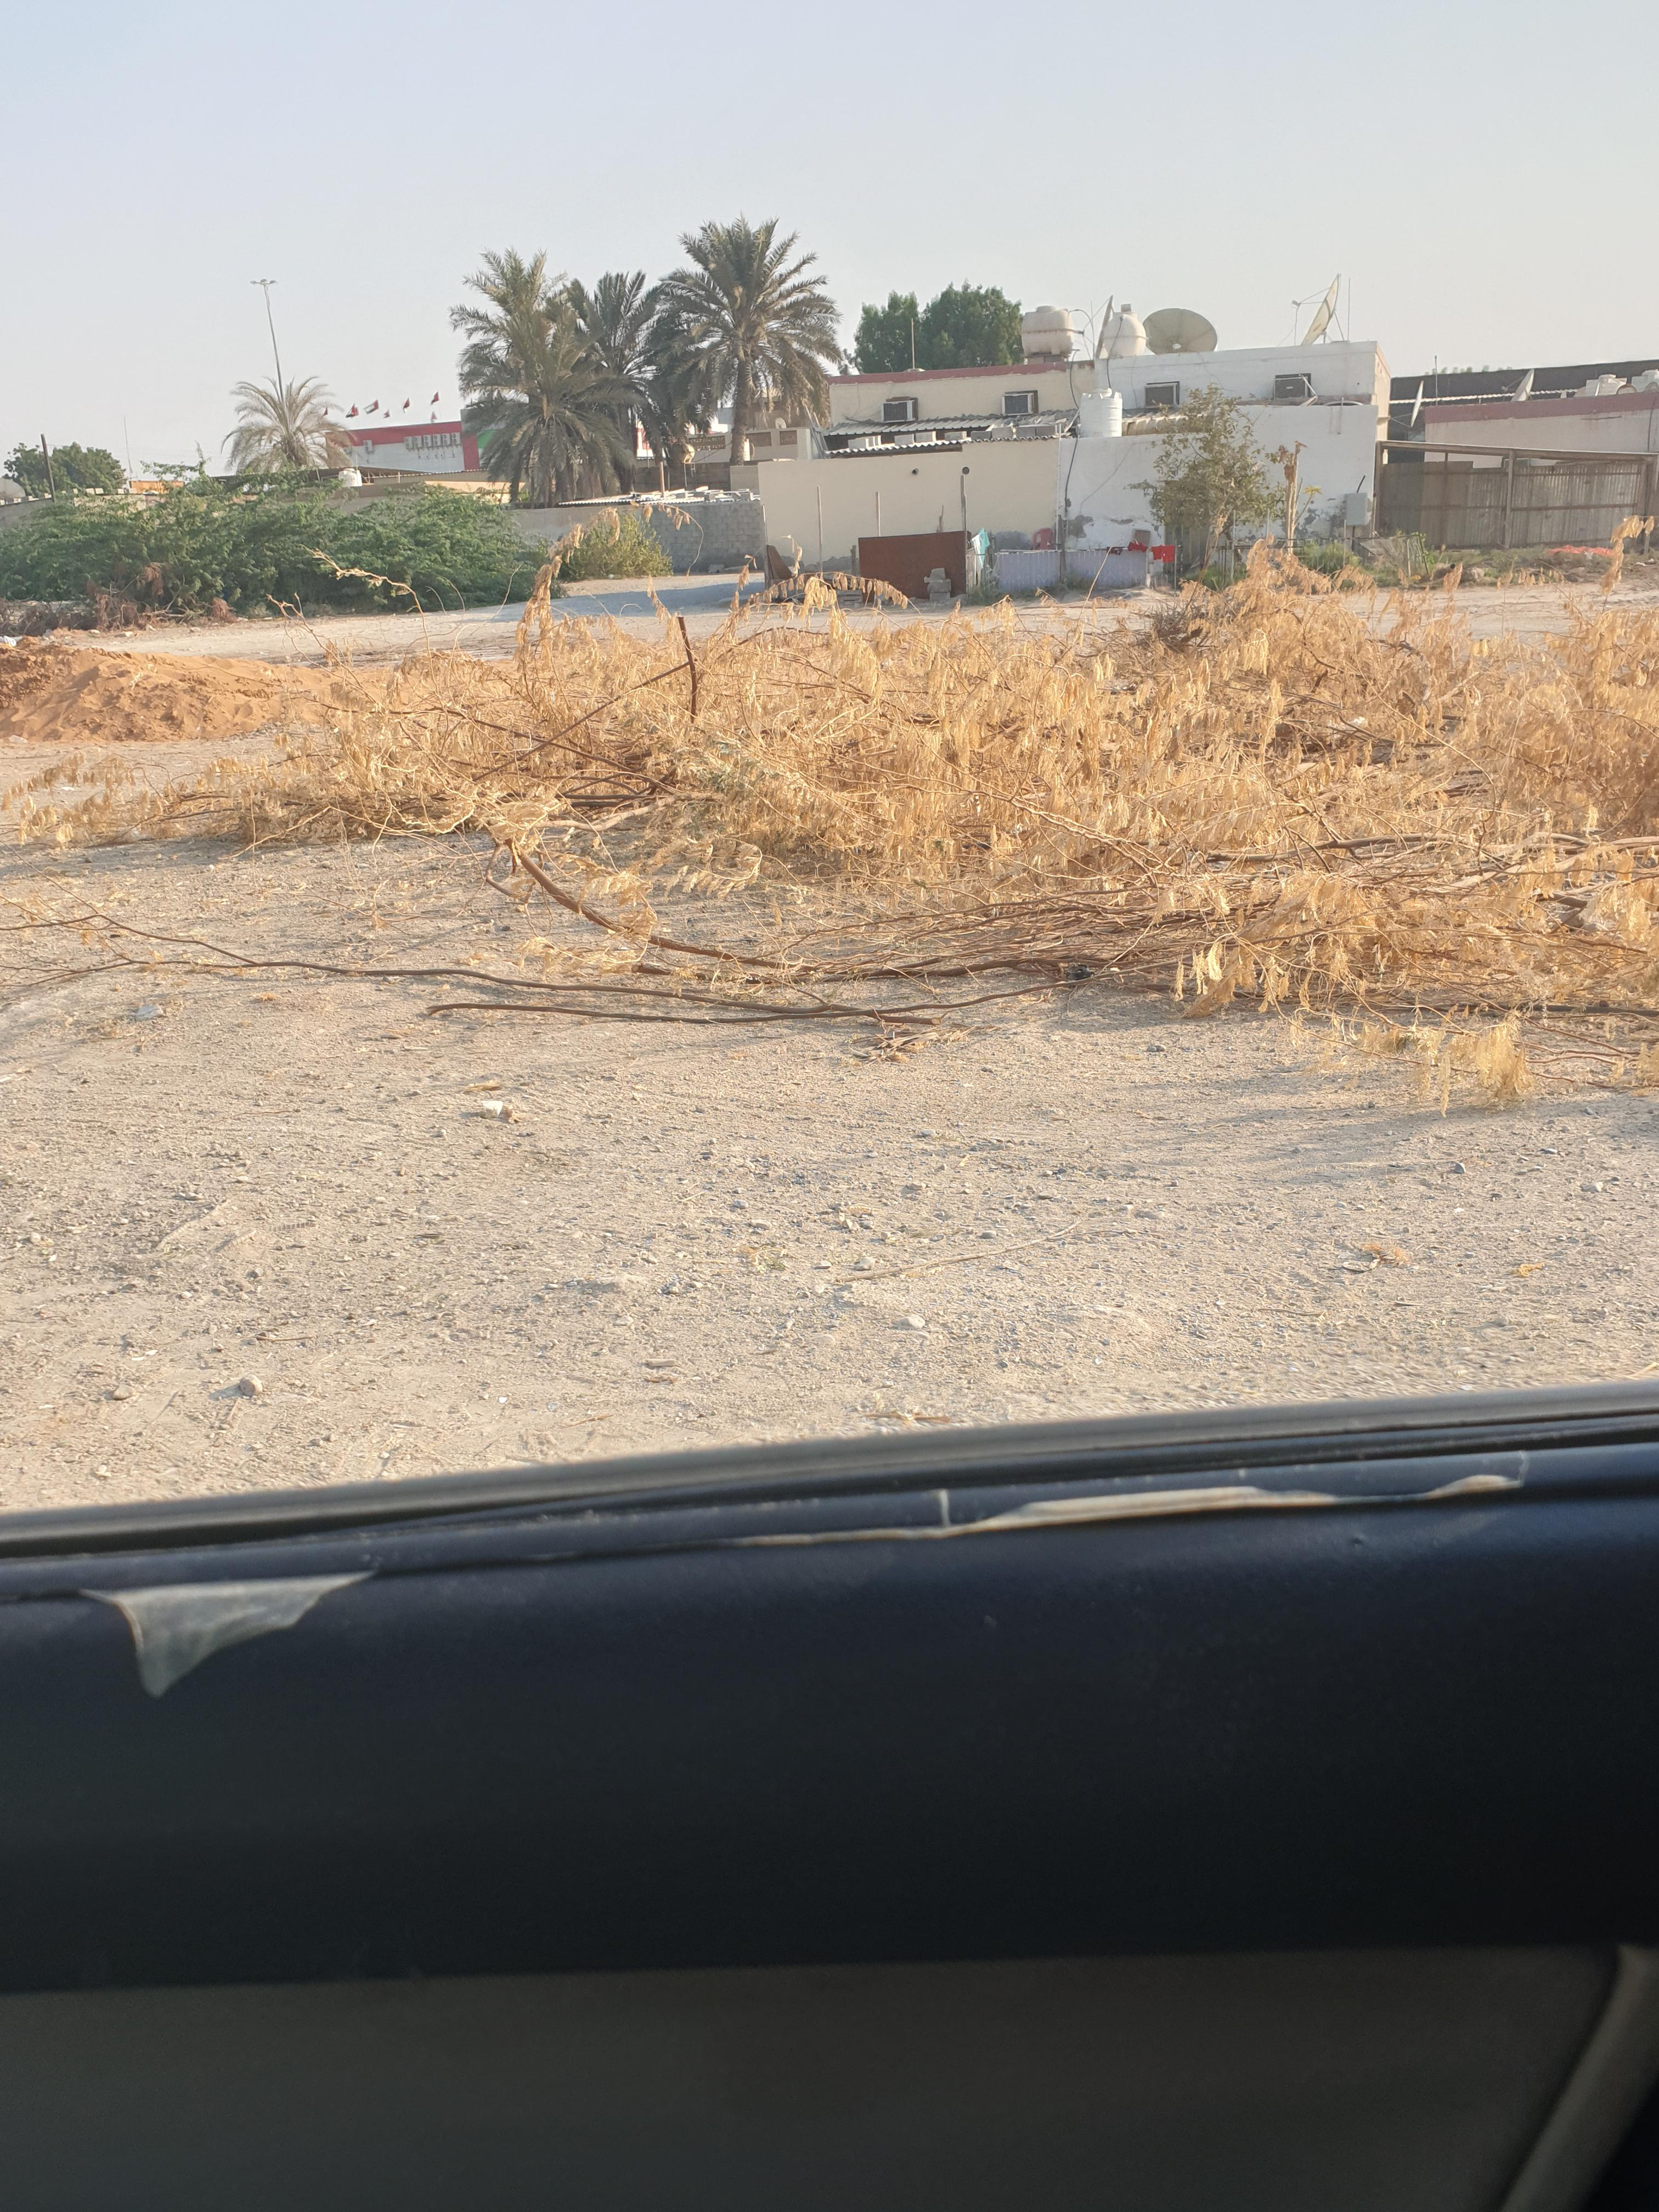fallen_trees: (176, 615, 1112, 1096), (1080, 824, 1652, 1176), (380, 599, 971, 907), (446, 822, 1019, 1066), (59, 737, 566, 892)
